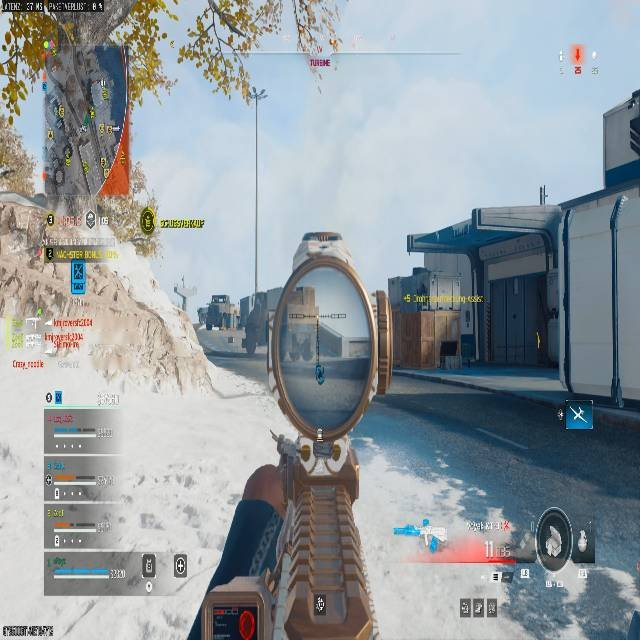player: (314, 362, 324, 385)
